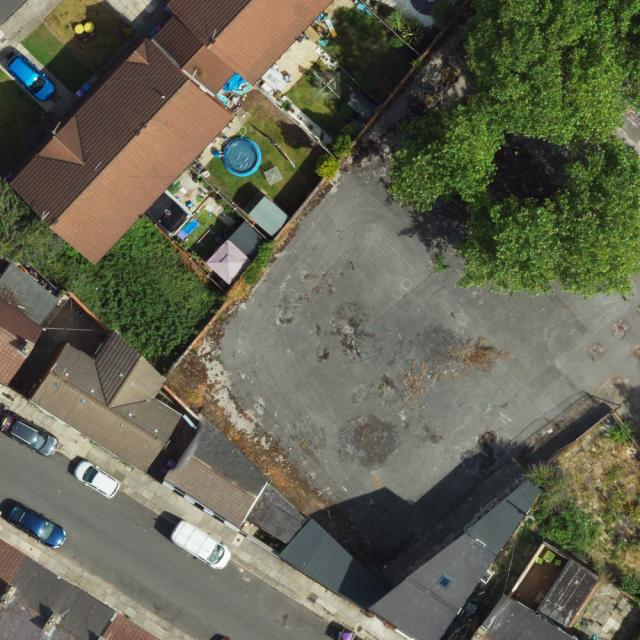roof: (10, 0, 334, 264), (163, 419, 543, 640), (30, 332, 182, 474), (1, 542, 159, 639), (470, 557, 599, 640), (0, 265, 61, 387)
skylight: (436, 574, 454, 590)
